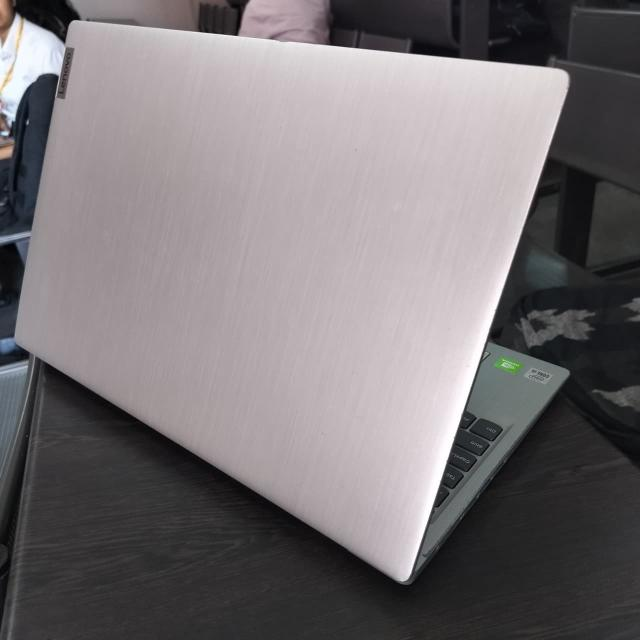laptop: (25, 22, 579, 604)
